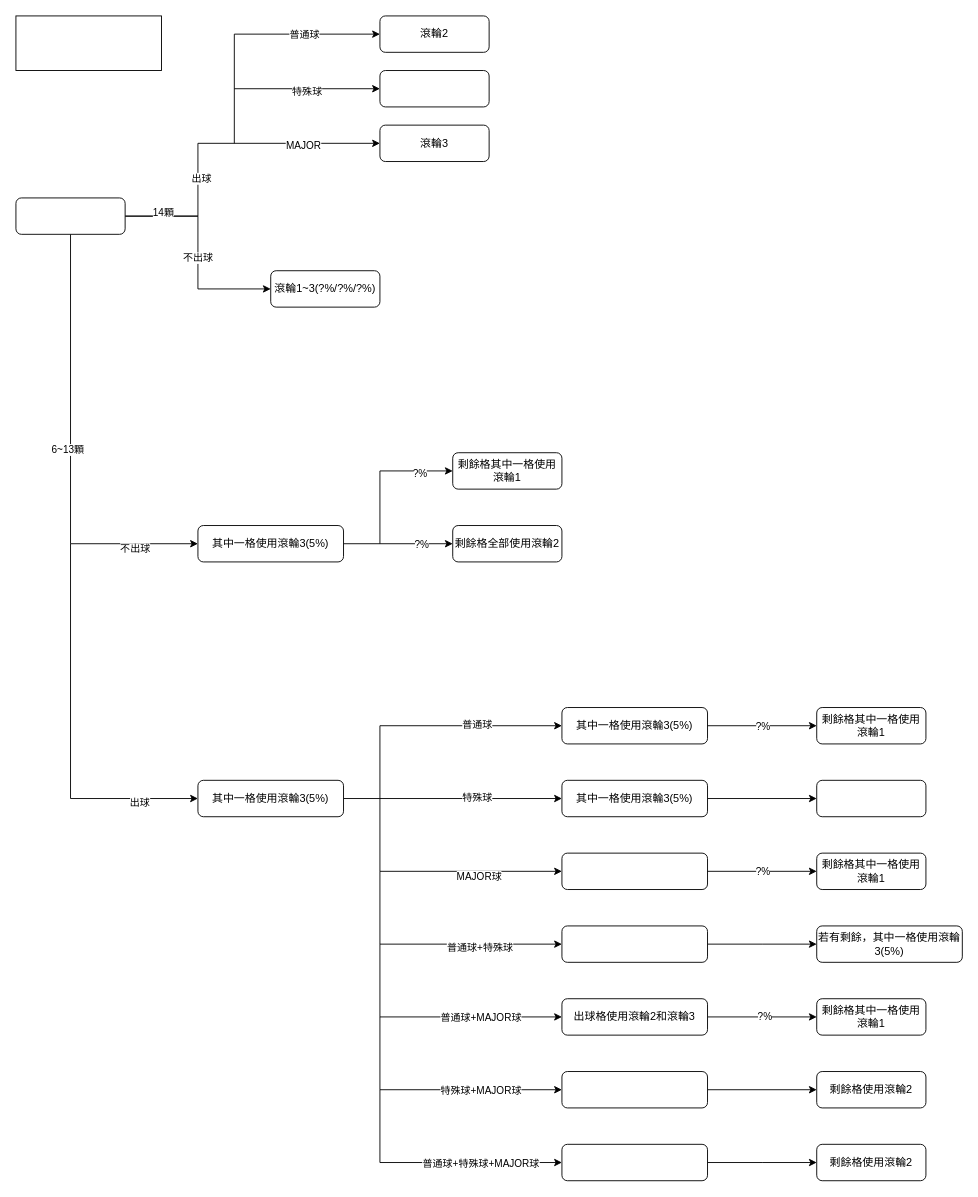
Image size: 978x1197. Some labels were removed from this diagram. The shapes that lost their labels are listed below. From the top down, each one's box as (x1, y1, x2, y2) in pixels, then its label:
(15, 15, 162, 71): 特殊球表演滾輪-滾輪1 普通球表演滾輪-滾輪2 MAJOR表演滾輪-滾輪3
(379, 70, 489, 107): 滾輪1
(15, 197, 125, 234): spin
(816, 779, 926, 817): 出球格使用滾輪1，其餘使用滾輪2
(561, 852, 708, 890): 其中一格使用滾輪3(100%)
(561, 925, 708, 962): 出球格使用滾輪1和滾輪2
(561, 1071, 708, 1108): 出球格使用滾輪1和滾輪3
(561, 1143, 708, 1181): 出球格使用滾輪1~3
